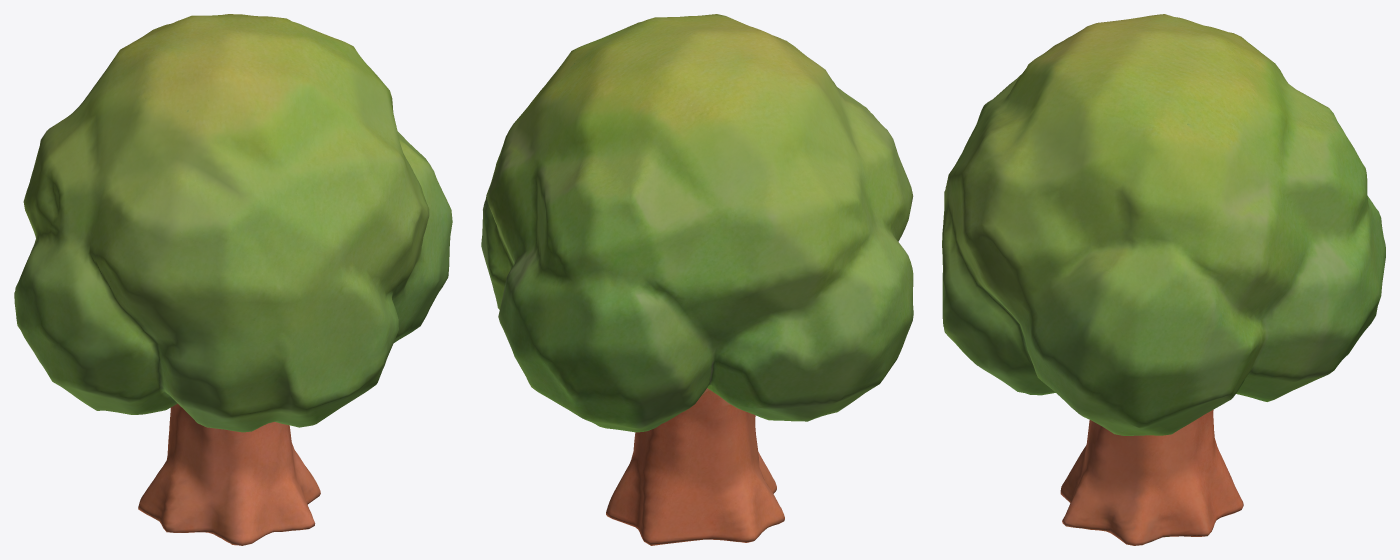
Rendered from TreeProp.glb.
3 renders of one model, left to right at view 1: azimuth 30°, elevation 25°; view 2: azimuth 150°, elevation 25°; view 3: azimuth 270°, elevation 25°, orthographic.
Visible parts, largest first — view 1: texture_mapping; view 2: texture_mapping; view 3: texture_mapping.
Part boxes in pixels (bbox=[...]): texture_mapping: bbox=[14, 14, 452, 545]; texture_mapping: bbox=[481, 14, 913, 545]; texture_mapping: bbox=[942, 14, 1385, 545].
Size of the model in its own units: 0.8873 by 1 by 0.849.
Materials: 1 (1 with a texture image).
